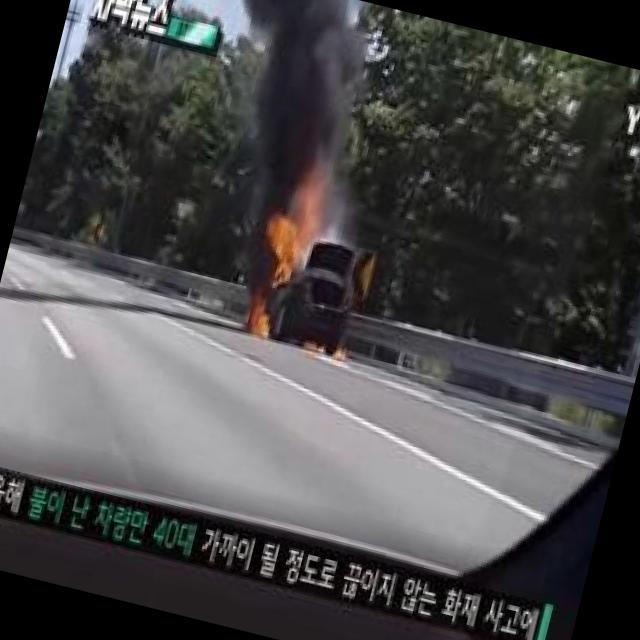Fire: (262, 199, 323, 281), (245, 300, 273, 337)
Smoke: (185, 0, 409, 211)
